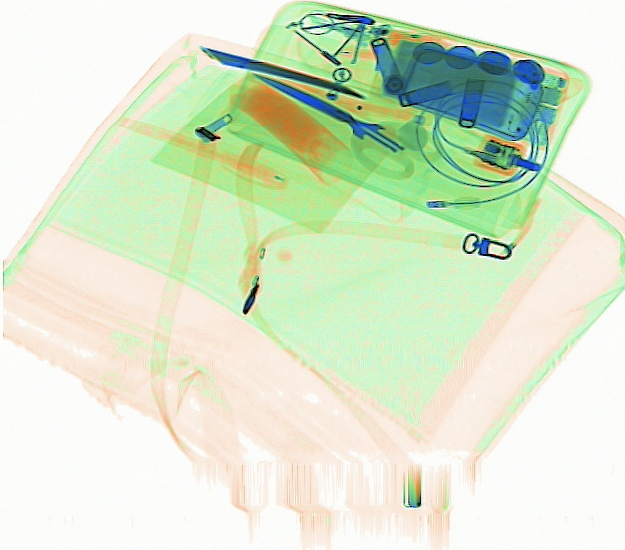knife: (198, 42, 367, 99)
scissors: (256, 71, 443, 181)
